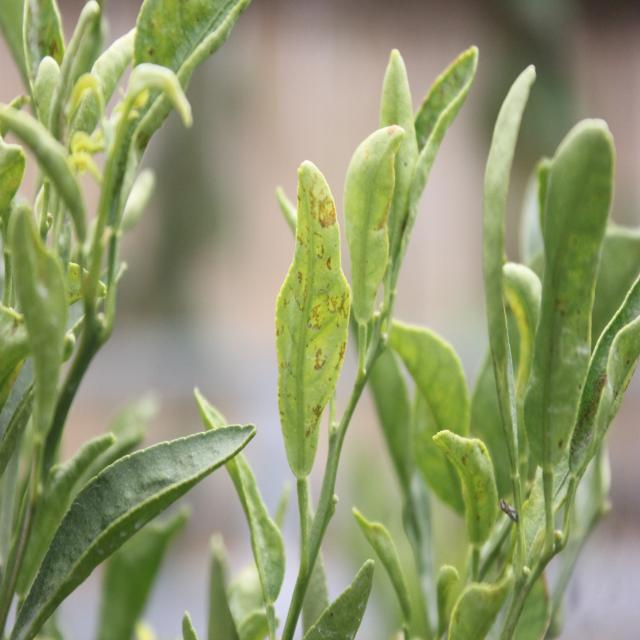canker: (274, 169, 346, 436), (356, 122, 399, 278), (452, 424, 495, 526), (142, 0, 200, 67), (27, 0, 60, 73)
